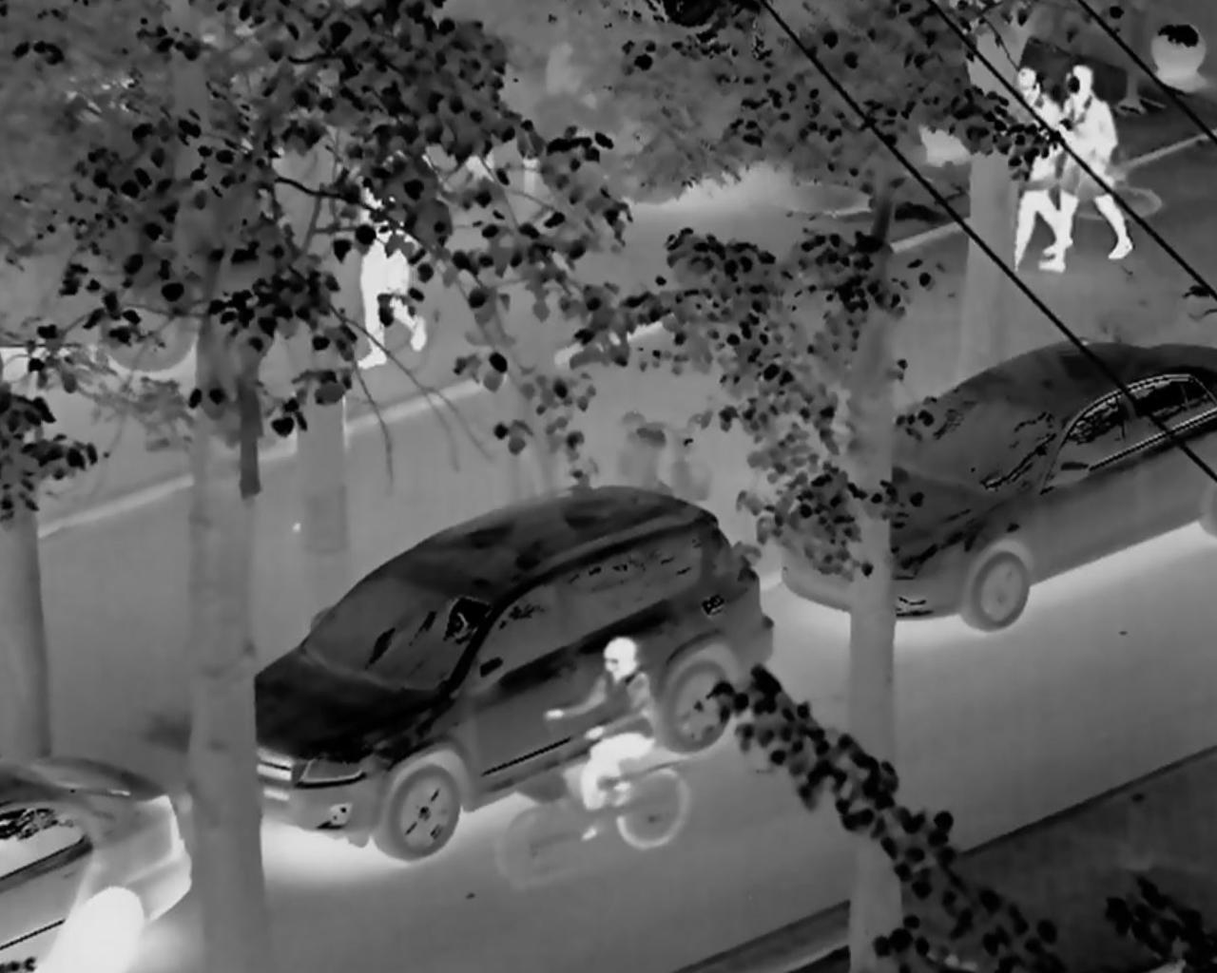person: (488, 639, 667, 889), (338, 131, 439, 371), (957, 56, 1066, 278), (1054, 60, 1148, 279)
